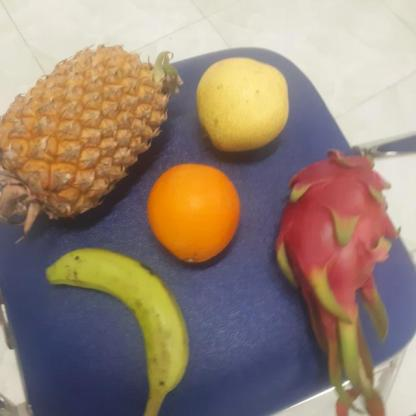banana: (44, 243, 192, 386)
guava: (148, 164, 243, 264)
orange: (146, 162, 244, 263)
pear: (194, 57, 293, 152)
pineapple: (0, 43, 176, 218)
pitaya: (277, 150, 399, 314)
